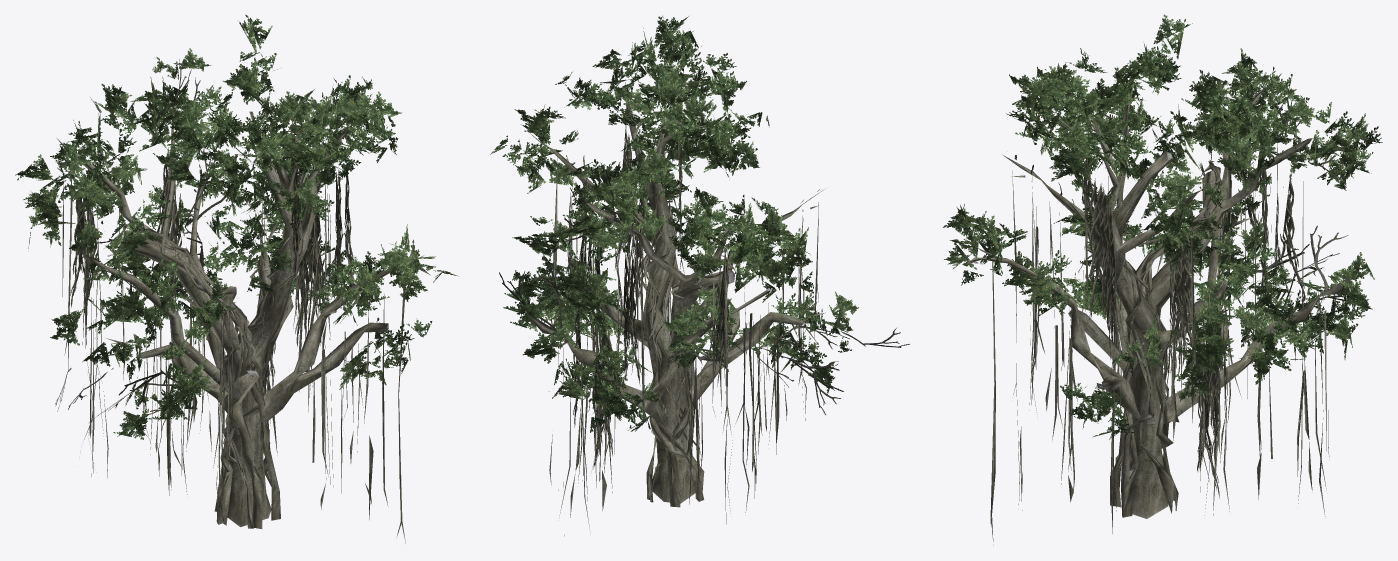
File: cay-da.glb
3 views of the same model, side by side, from view 1: azimuth 30°, elevation 25°; view 2: azimuth 150°, elevation 25°; view 3: azimuth 270°, elevation 25° (orthographic). The views are drawn at different scales.
Parts seen in each view (by area): view 1: ChineseBanyan_Med; view 2: ChineseBanyan_Med; view 3: ChineseBanyan_Med.
Boxes of the visible parts, <box> form: ChineseBanyan_Med: <box>15,14,458,543</box>; ChineseBanyan_Med: <box>490,15,909,536</box>; ChineseBanyan_Med: <box>943,14,1382,545</box>.
Bounding box in the file's own units: 0.8402 × 0.9978 × 0.7994.
7 materials, 7 textured.
